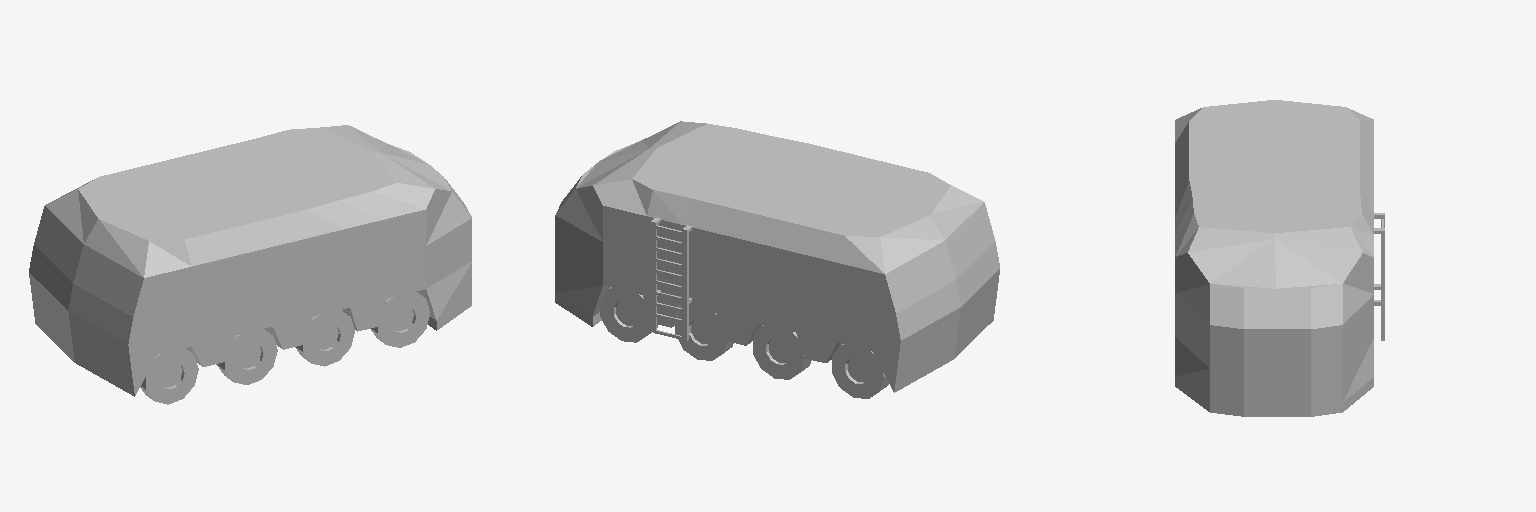
Rendered from Train.obj.
3 renders of one model, left to right at view 1: azimuth 30°, elevation 25°; view 2: azimuth 150°, elevation 25°; view 3: azimuth 270°, elevation 25°, orthographic.
Parts seen in each view (by area): view 1: Train; view 2: Train; view 3: Train.
Boxes of the visible parts, box(x1,y1,x2,y2) form: Train: box(29, 125, 471, 404); Train: box(555, 121, 999, 398); Train: box(1175, 100, 1384, 416).
Size of the model in its own units: 18.09 by 7.1 by 8.61.